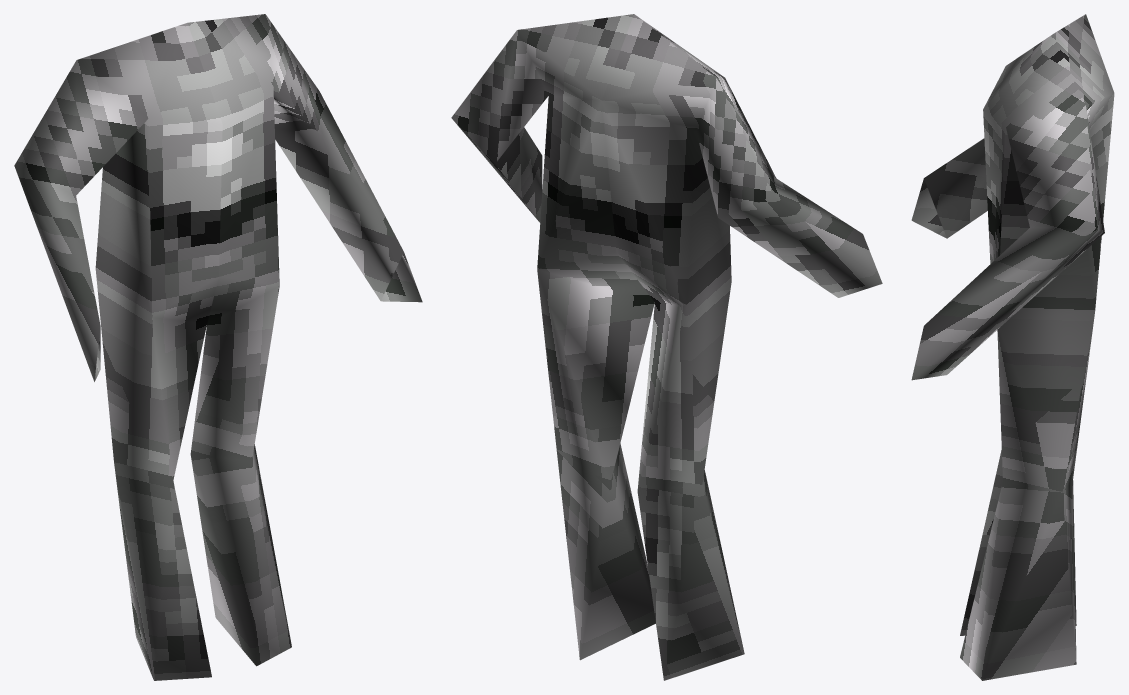
File: poi_protocol_droid_body_l3.fbx
3 views of the same model, side by side, from view 1: azimuth 30°, elevation 25°; view 2: azimuth 150°, elevation 25°; view 3: azimuth 270°, elevation 25° (orthographic). The views are drawn at different scales.
Parts seen in each view (by area): view 1: mesh_node; view 2: mesh_node; view 3: mesh_node.
Boxes of the visible parts, box(x1,y1,x2,y2) form: mesh_node: box(14, 14, 422, 680); mesh_node: box(451, 14, 882, 680); mesh_node: box(911, 14, 1114, 680).
Bounding box in the file's own units: 0.8805 × 1.58 × 0.473.
